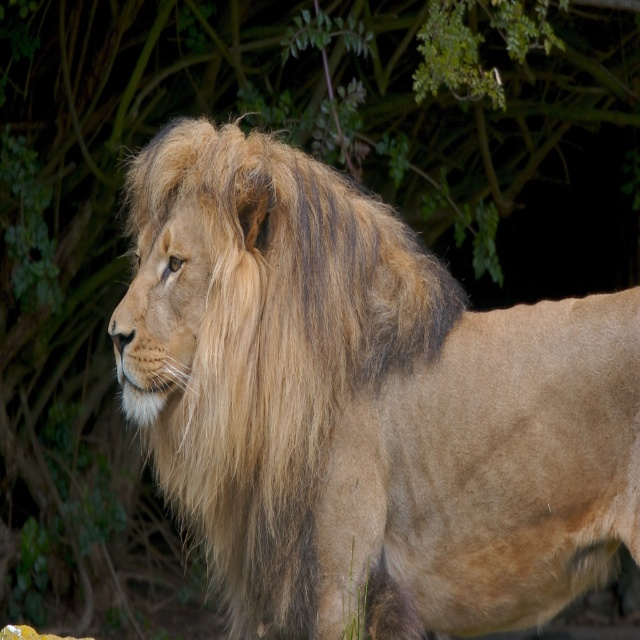Lion: (106, 112, 640, 639)
